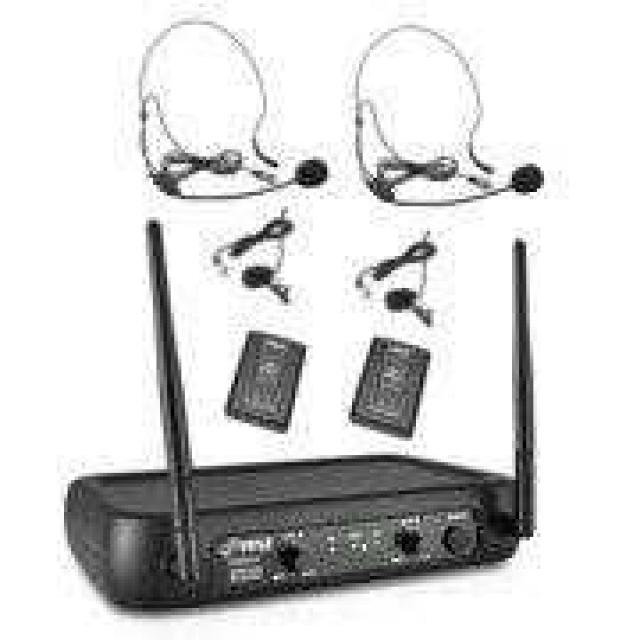microphone: (293, 154, 338, 196), (505, 162, 555, 193)
